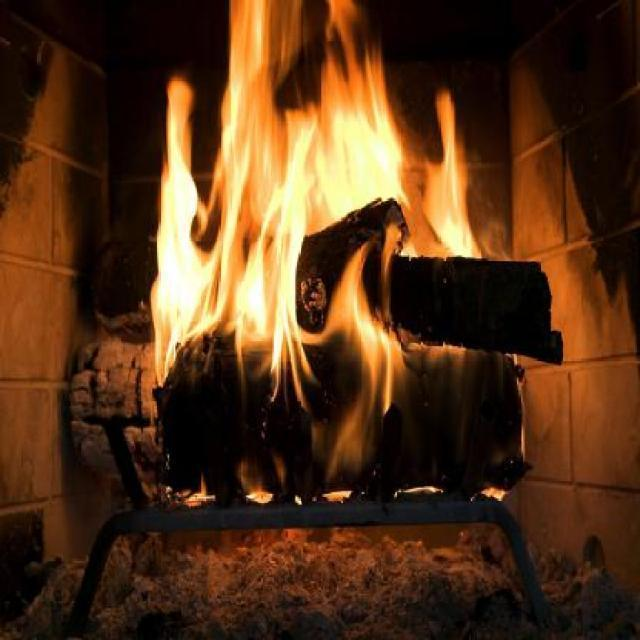Fire: (150, 2, 488, 405)
